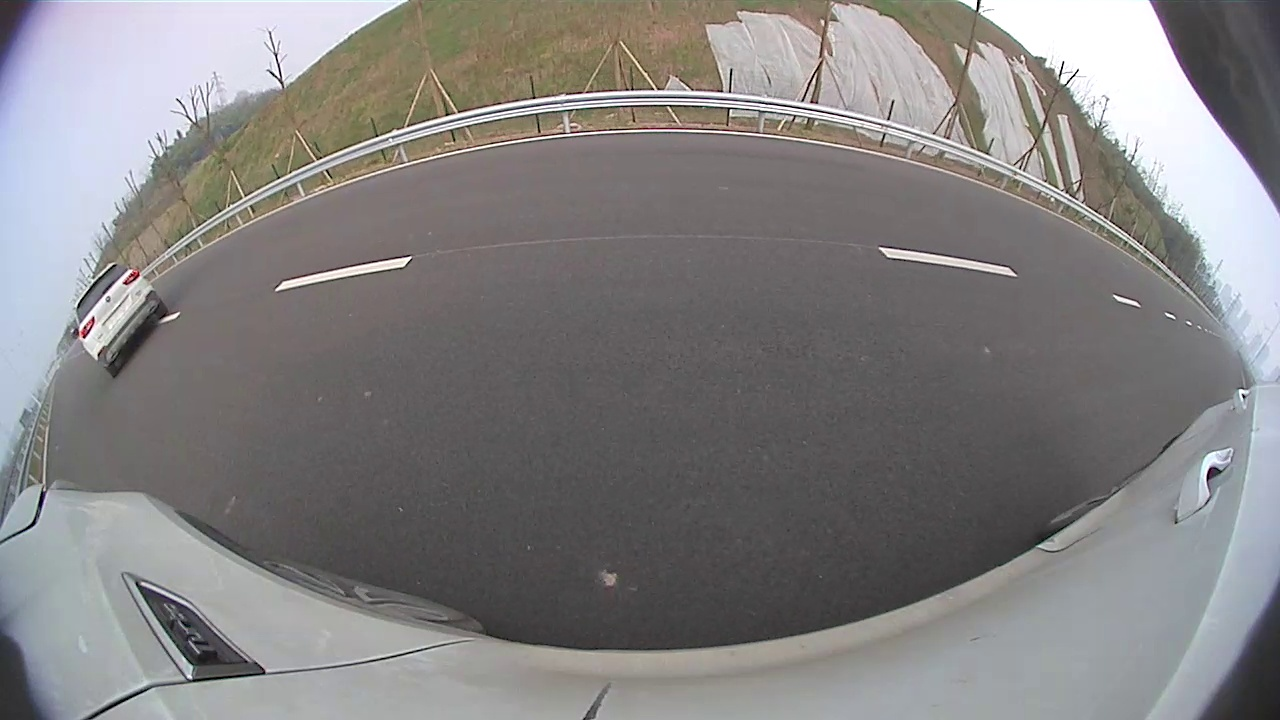car: (72, 262, 168, 377)
